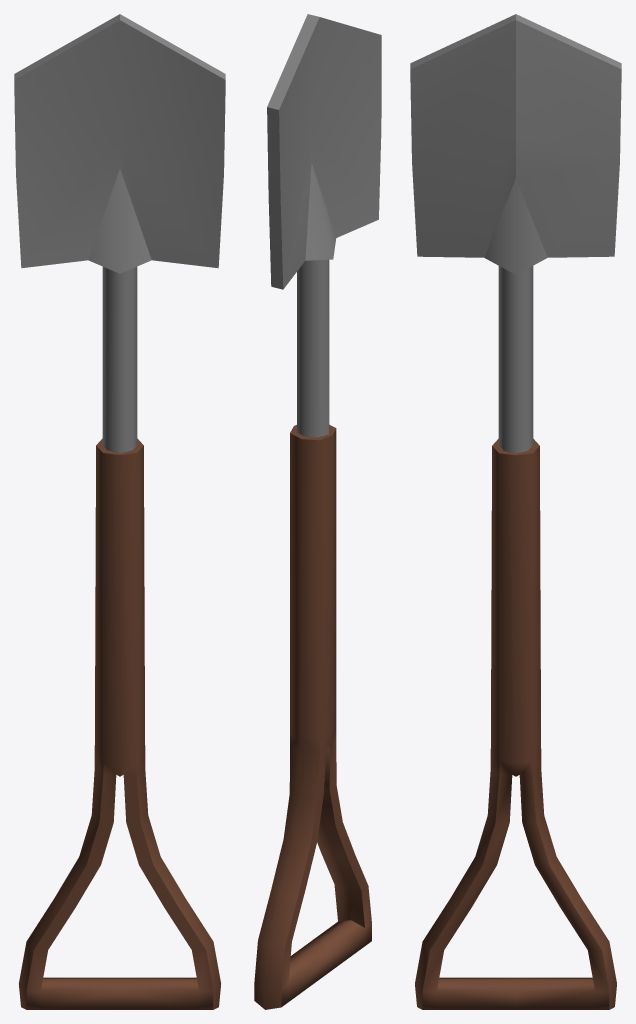
The model's file is shovel.glb.
3 renders of one model, left to right at view 1: azimuth 90°, elevation 25°; view 2: azimuth 150°, elevation 25°; view 3: azimuth 270°, elevation 25°, orthographic. The views are drawn at different scales.
Parts seen in each view (by area): view 1: Cube.001, Cube; view 2: Cube, Cube.001; view 3: Cube.001, Cube.
Boxes of the visible parts, box(x1,y1,x2,y2) form: Cube.001: box(14, 14, 225, 453); Cube: box(19, 438, 220, 1009); Cube: box(254, 424, 371, 1009); Cube.001: box(267, 14, 381, 437); Cube.001: box(410, 14, 621, 453); Cube: box(415, 439, 616, 1009).
Bounding box in the file's own units: 0.0347 × 0.7614 × 0.147.
